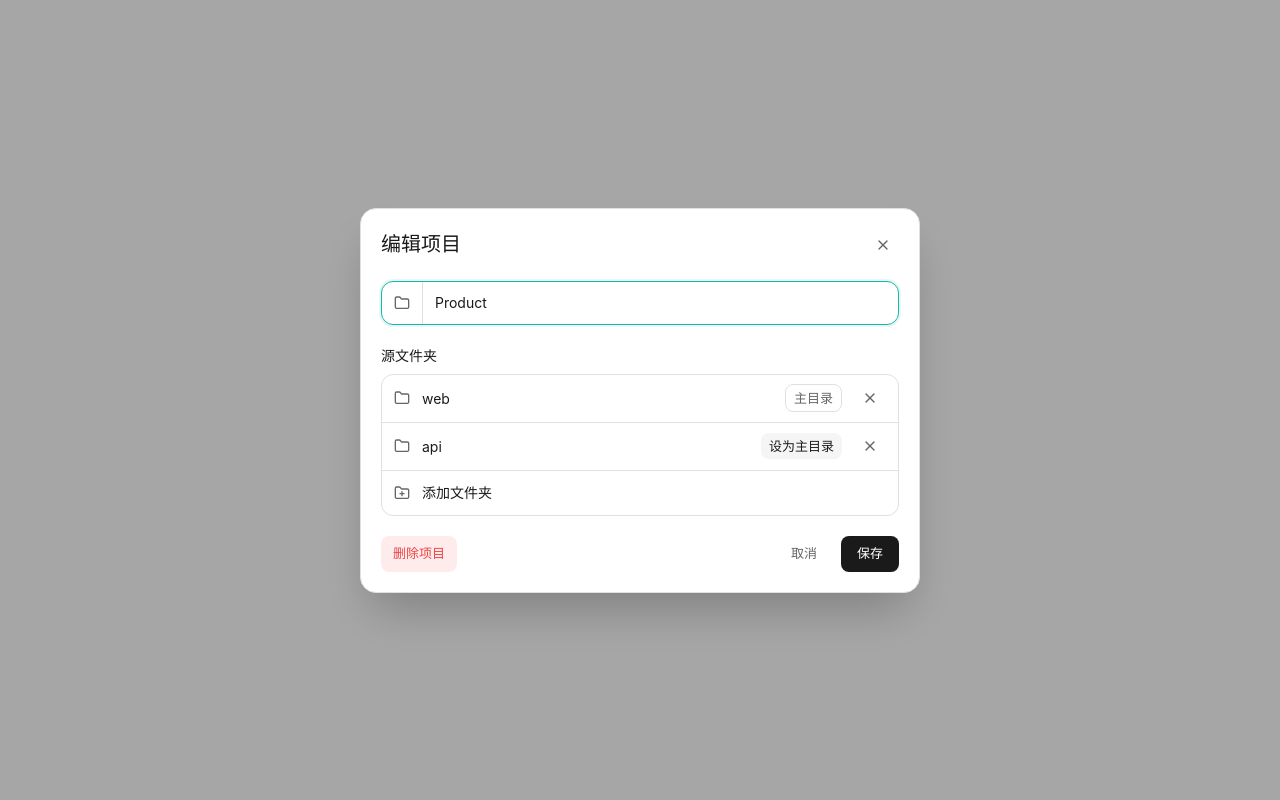
Test: LocalProjectEditDialog › uses the device folder picker when the Web client edits project roots
Click the button with test id "add-local-project-folders".
click(457, 492)  # box [382,470,898,514]
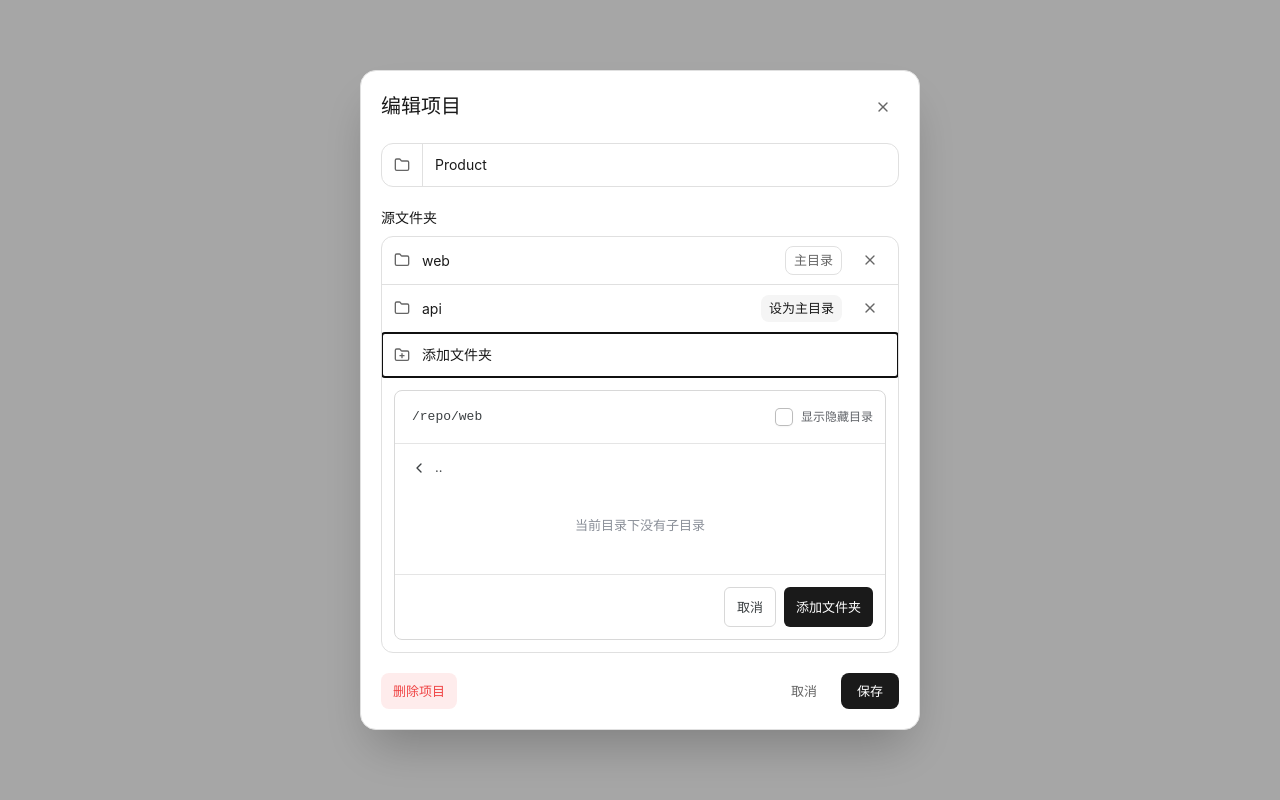
Now the element with test id "local-project-folder-picker" is shown, box [382,377,898,652]
